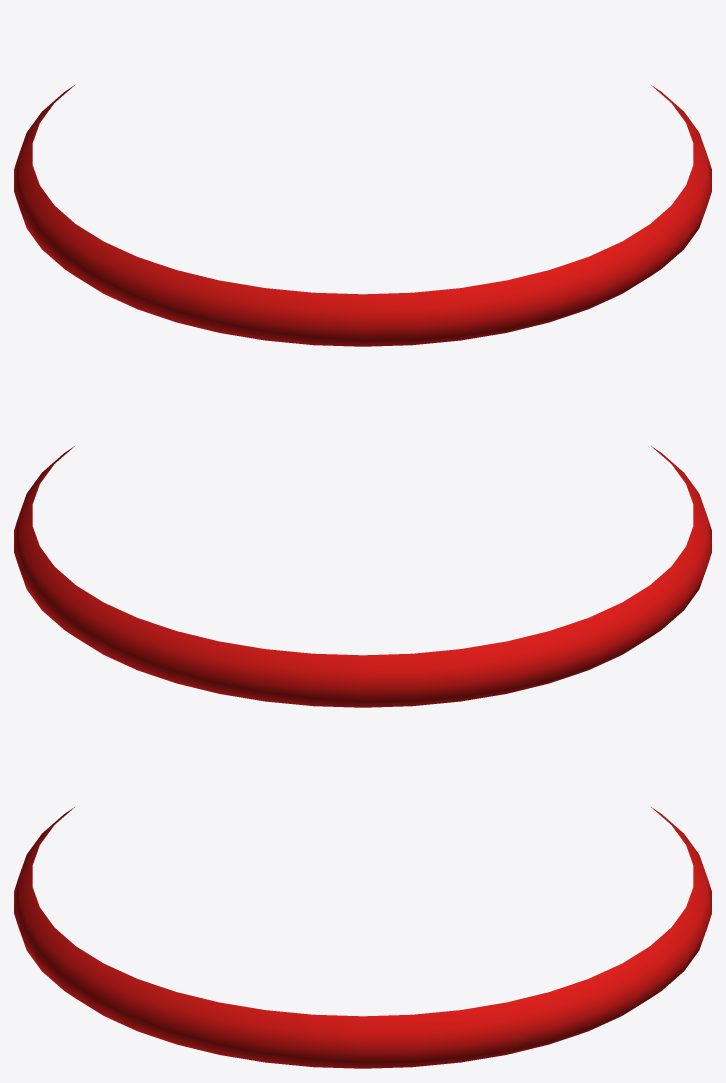
File: rotation-gizmo-flat-x.glb
3 renders of one model, top to bottom at view 1: azimuth 30°, elevation 25°; view 2: azimuth 150°, elevation 25°; view 3: azimuth 270°, elevation 25°, orthographic.
Parts seen in each view (by area): view 1: rotation-gizmo-flat-x; view 2: rotation-gizmo-flat-x; view 3: rotation-gizmo-flat-x.
Part boxes in pixels (x1,y1,x2,y2): rotation-gizmo-flat-x: [14, 85, 711, 346]; rotation-gizmo-flat-x: [14, 446, 711, 707]; rotation-gizmo-flat-x: [14, 807, 711, 1068].
Size of the model in its own units: 6.6 by 0.5458 by 6.58.
